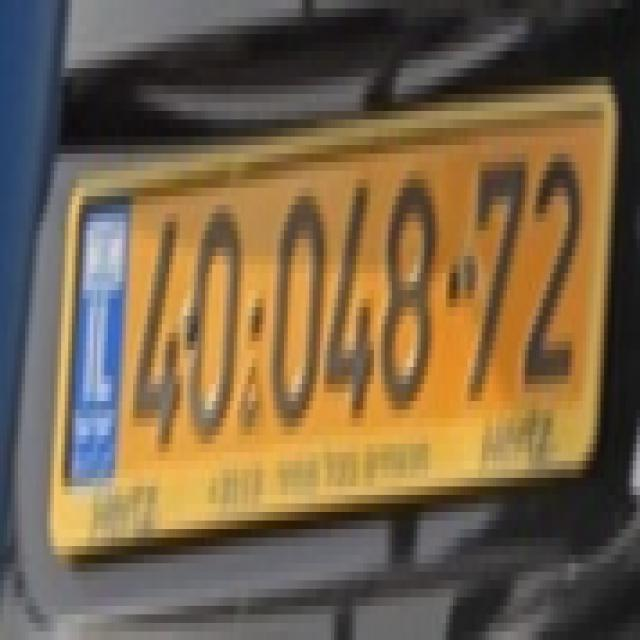licenseplate: (31, 51, 627, 570)
